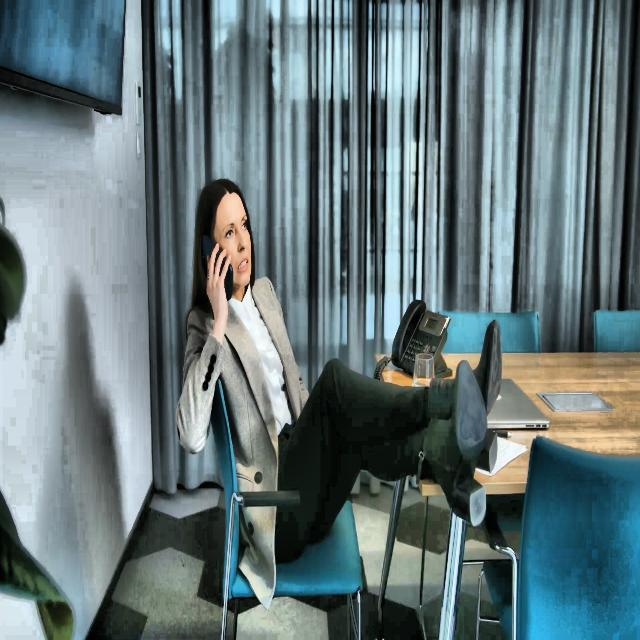Phone: (200, 234, 234, 302)
